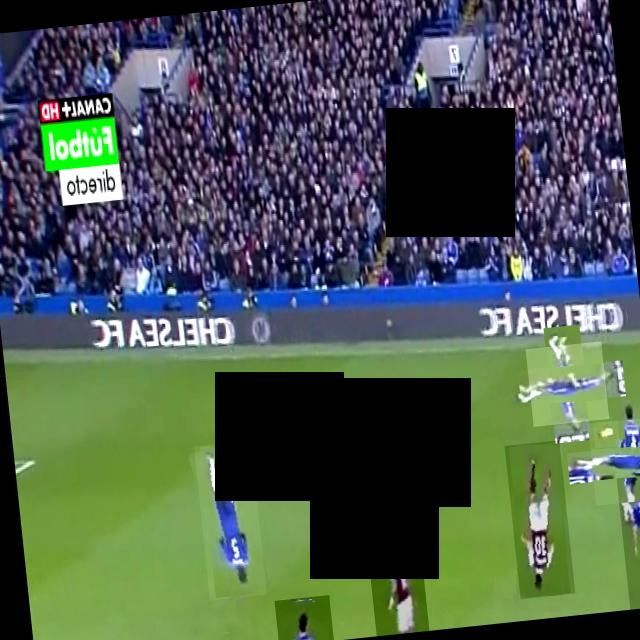ball: (591, 419, 619, 447)
soccer-player: (192, 439, 266, 599), (503, 439, 574, 598), (364, 520, 428, 636), (524, 340, 608, 426), (586, 416, 640, 504), (615, 472, 640, 609), (273, 594, 333, 640)
